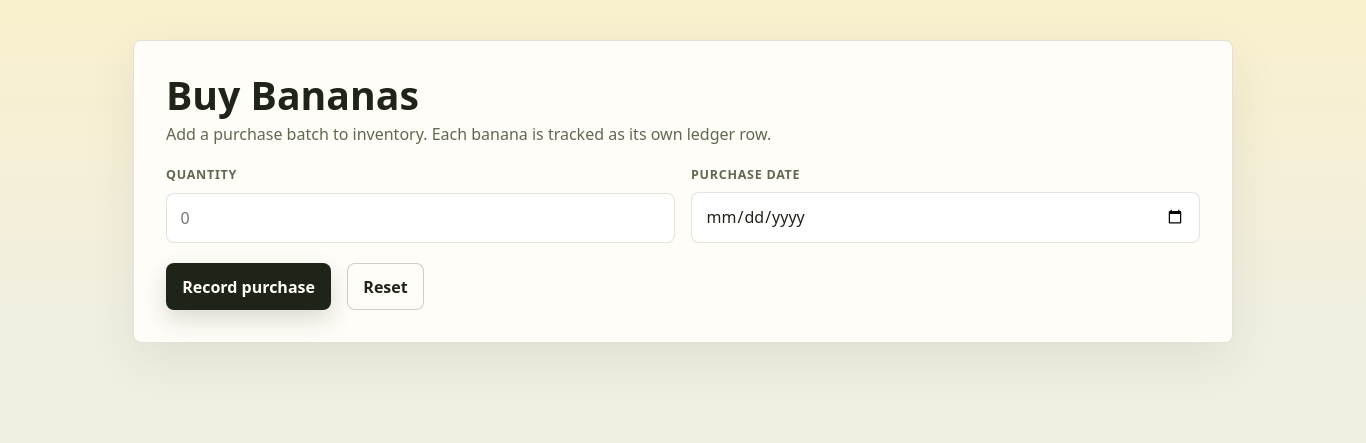
Buy › submits a valid purchase request
This screenshot has width=1366, height=443.
Type "12" into the number field labelled "Quantity".
click(420, 218); type("12")  # box [166,193,675,243]
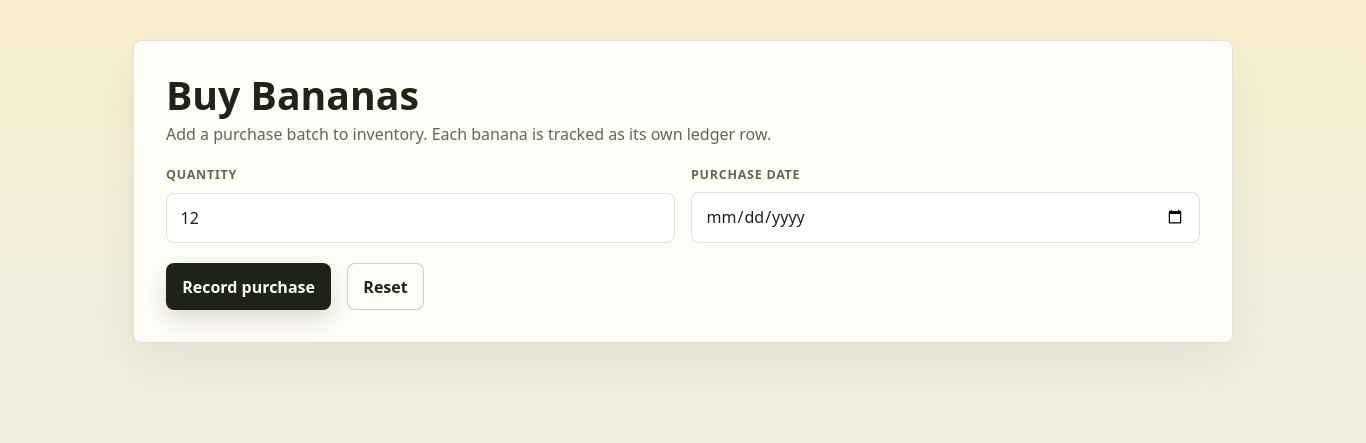
Type "2026-03-06" into the date field labelled "Purchase date".
click(946, 217); type("2026-03-06")  # box [691,192,1200,243]
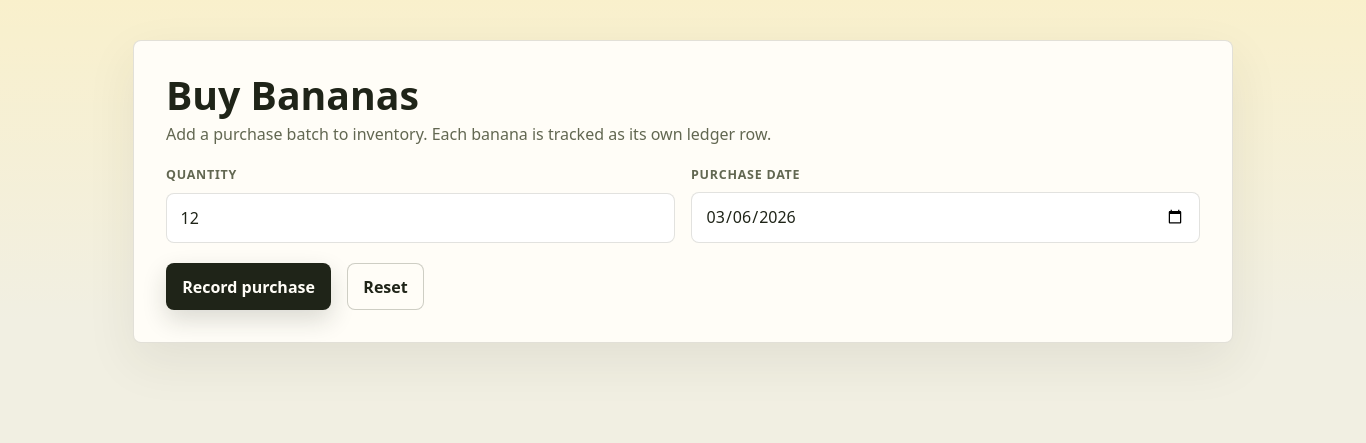
Click the button "Record purchase".
click(249, 286)  # box [166,263,331,310]
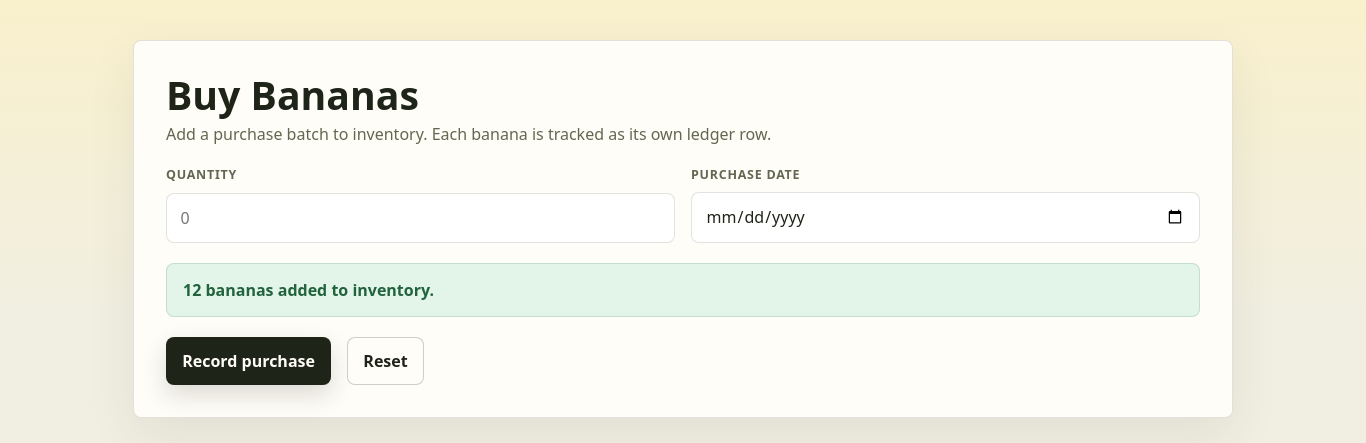
Check: the text "12 bananas added to inventory." is shown, box [166,263,1200,317]
